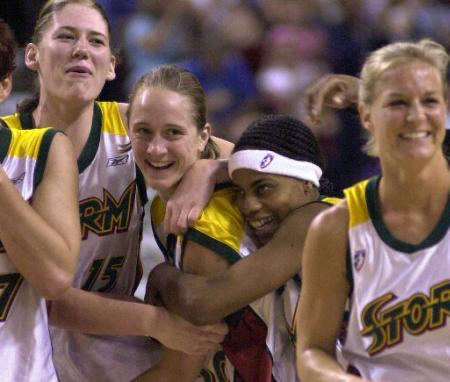Face: (125, 96, 200, 188), (376, 67, 446, 162), (38, 18, 111, 107), (231, 177, 306, 241)
